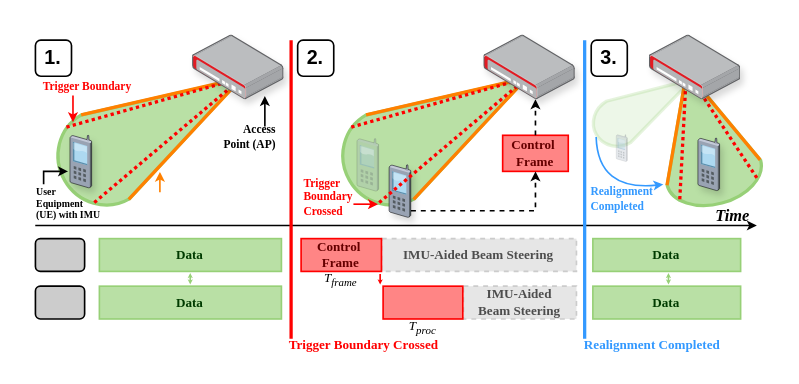
Some shapes in this 799 by 384 pixel diagram are drawn without their labels. Each missing label, with the centre of its shape:
AP: [59,302]
Control Processing: [422,302]
Edge of Coverage: [151,129]
UE: [59,254]
